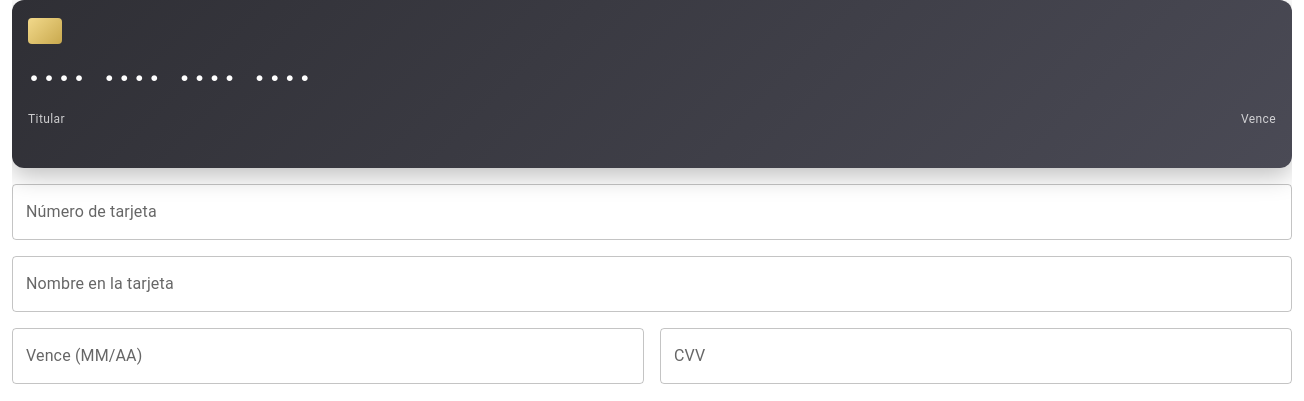
CardForm › la tarjeta dibujada enseña el logo de Visa en cuanto se escriben los primeros dígitos
In the field labelled "Número de tarjeta": (652, 212) 12,184 -> 1292,240, type "4"
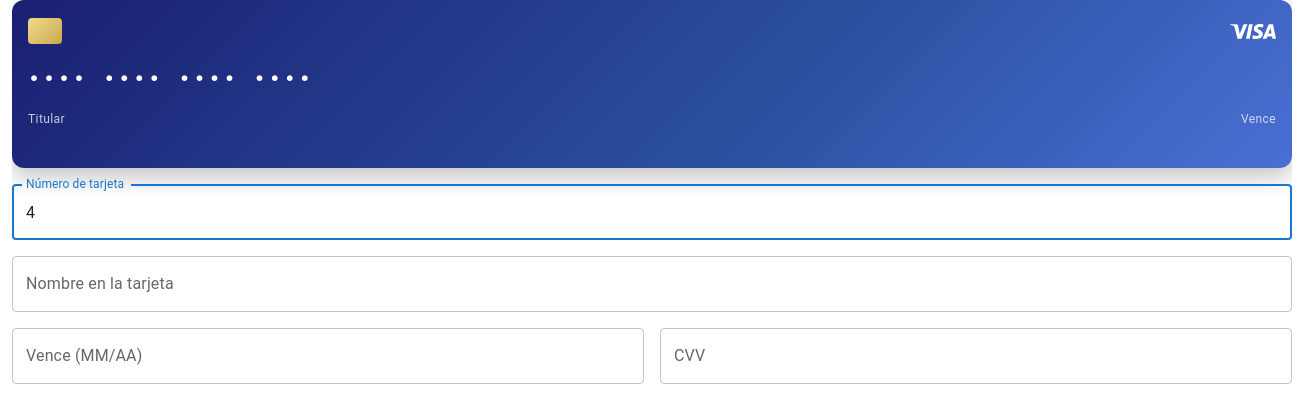
Check: the picture named "Visa" is shown, box 1230,24 -> 1276,38
